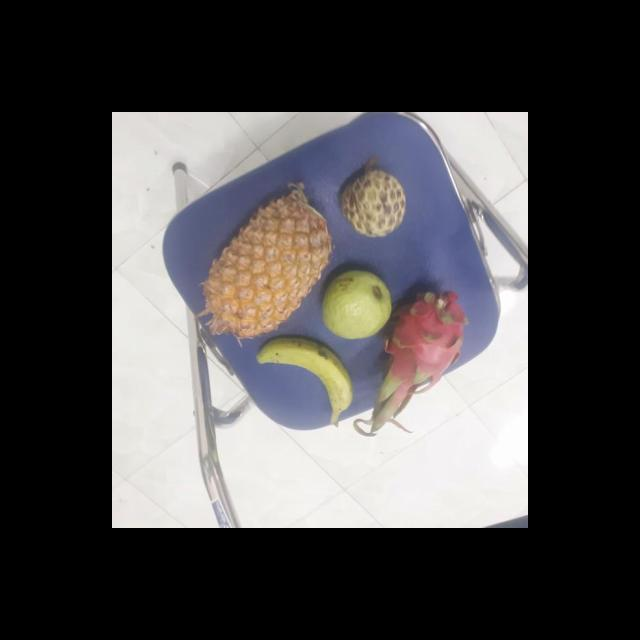Sakya fruit: (335, 170, 406, 238)
banana: (252, 336, 350, 426)
pear: (320, 266, 392, 340)
pineapple: (198, 192, 329, 334)
pitaya: (372, 290, 466, 404)
